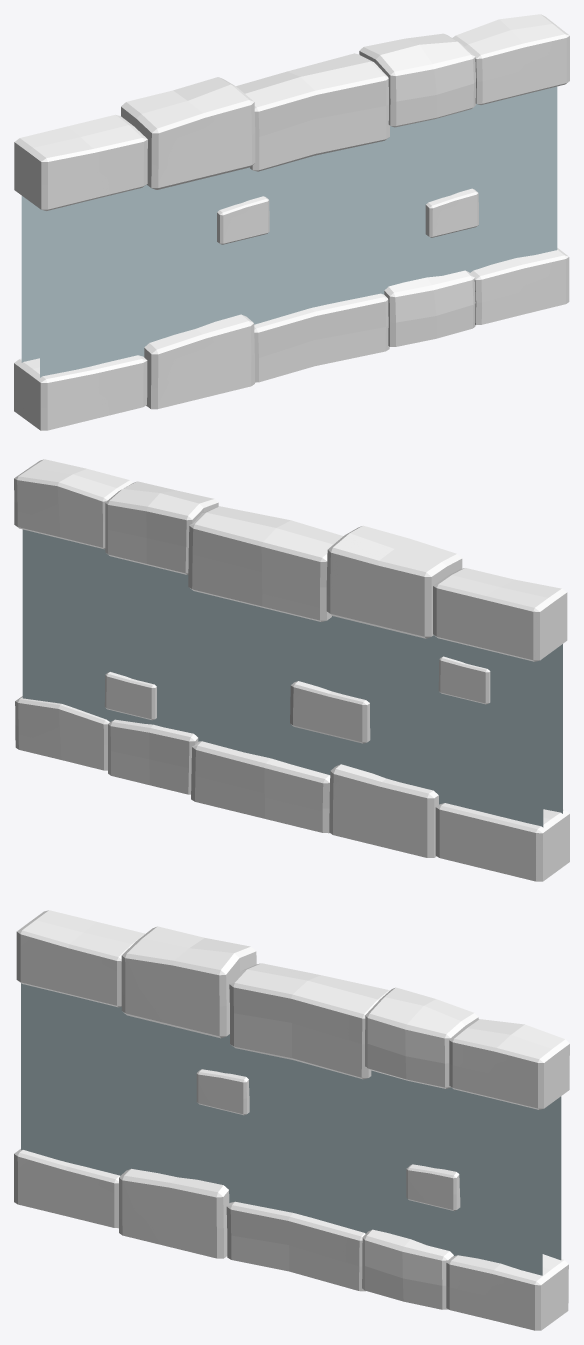
Rendered from wall2222.glb.
3 views of the same model, one above another, from view 1: azimuth 30°, elevation 25°; view 2: azimuth 150°, elevation 25°; view 3: azimuth 330°, elevation 25° (orthographic).
Parts seen in each view (by area): view 1: wall2; view 2: wall2; view 3: wall2.
Boxes of the visible parts, left/top/right/bottom form: wall2: left=14, top=14, right=569, bottom=430; wall2: left=14, top=459, right=569, bottom=881; wall2: left=14, top=910, right=569, bottom=1330.
Size of the model in its own units: 0.102 by 0.0535 by 0.012.
1 material, 1 textured.
